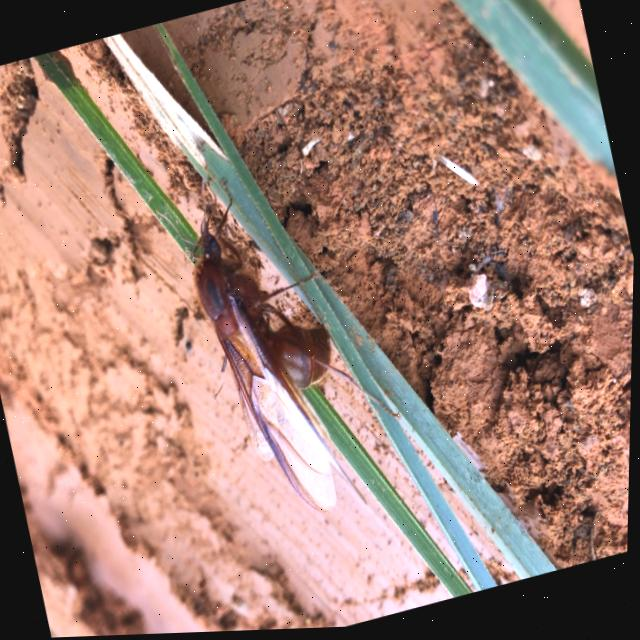Alive-Male-Alate: (146, 140, 426, 547)
